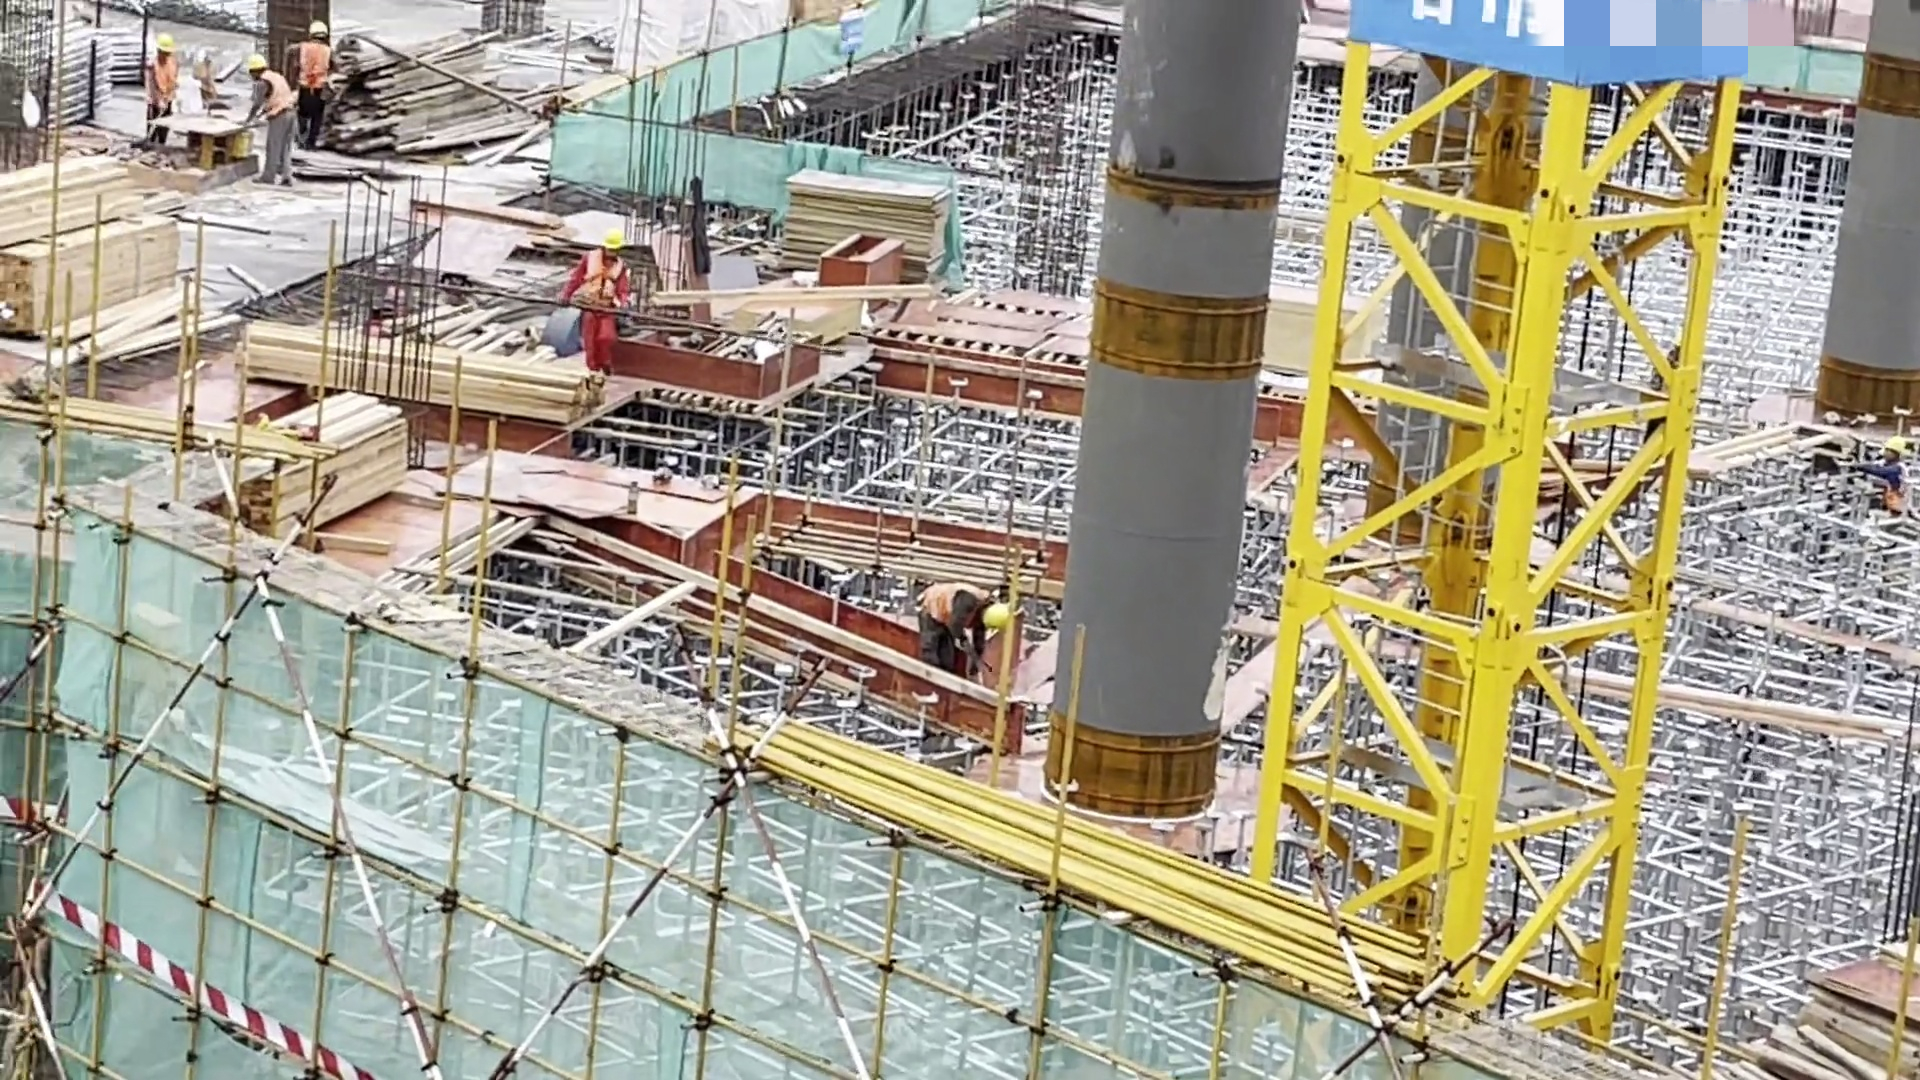helmet: (1880, 424, 1909, 466), (592, 225, 626, 260), (241, 38, 272, 77), (983, 591, 1010, 631), (304, 14, 334, 44), (150, 26, 178, 56)
person: (898, 576, 1008, 671), (573, 220, 630, 384), (291, 20, 350, 151), (238, 53, 301, 170), (1850, 436, 1913, 533), (135, 31, 181, 143)
scaffold: (10, 32, 139, 126)
vest: (919, 581, 988, 635), (584, 251, 617, 305), (247, 74, 283, 116), (145, 58, 171, 108), (1874, 464, 1903, 507), (301, 47, 328, 90)
wood: (246, 322, 576, 420), (215, 390, 408, 519)
